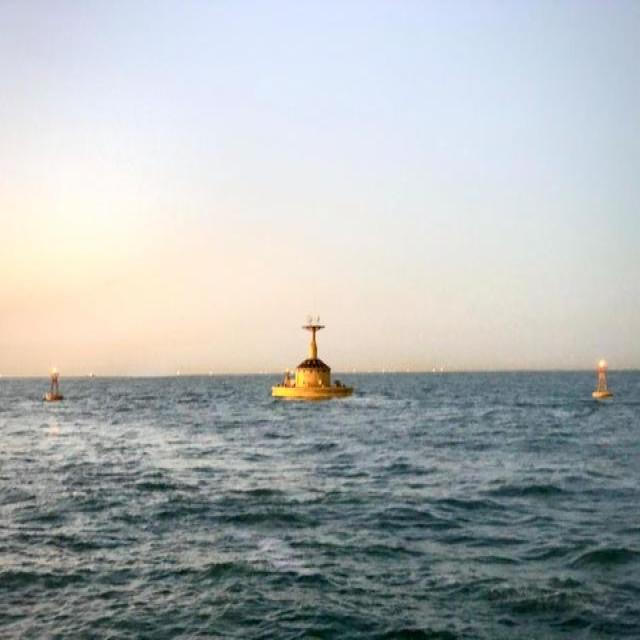buoy: (269, 307, 353, 398), (594, 358, 614, 402), (43, 368, 63, 406)
